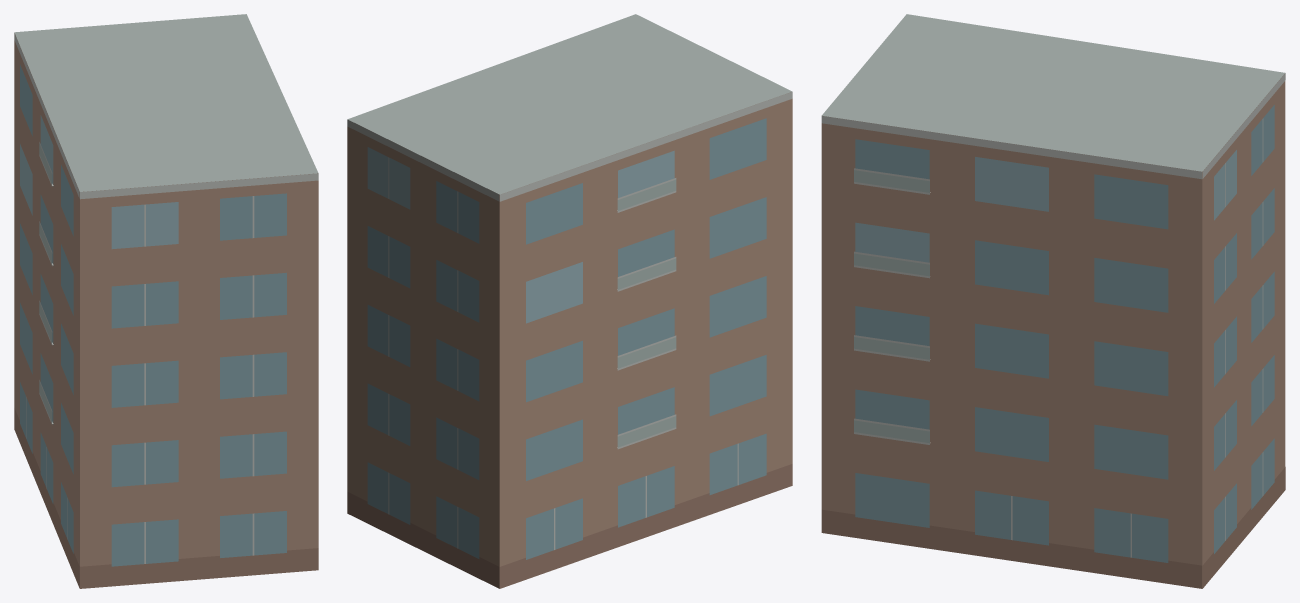
The model's file is survey-upis-32965529.glb.
3 views of the same model, side by side, from view 1: azimuth 30°, elevation 25°; view 2: azimuth 150°, elevation 25°; view 3: azimuth 270°, elevation 25° (orthographic). The views are drawn at different scales.
Parts seen in each view (by area): view 1: survey-upis-32965529.tmp; view 2: survey-upis-32965529.tmp; view 3: survey-upis-32965529.tmp.
Boxes of the visible parts, <box> form: survey-upis-32965529.tmp: <box>14,14,318,588</box>; survey-upis-32965529.tmp: <box>347,14,792,588</box>; survey-upis-32965529.tmp: <box>821,14,1285,588</box>.
Size of the model in its own units: 10.92 by 13.45 by 13.57.
